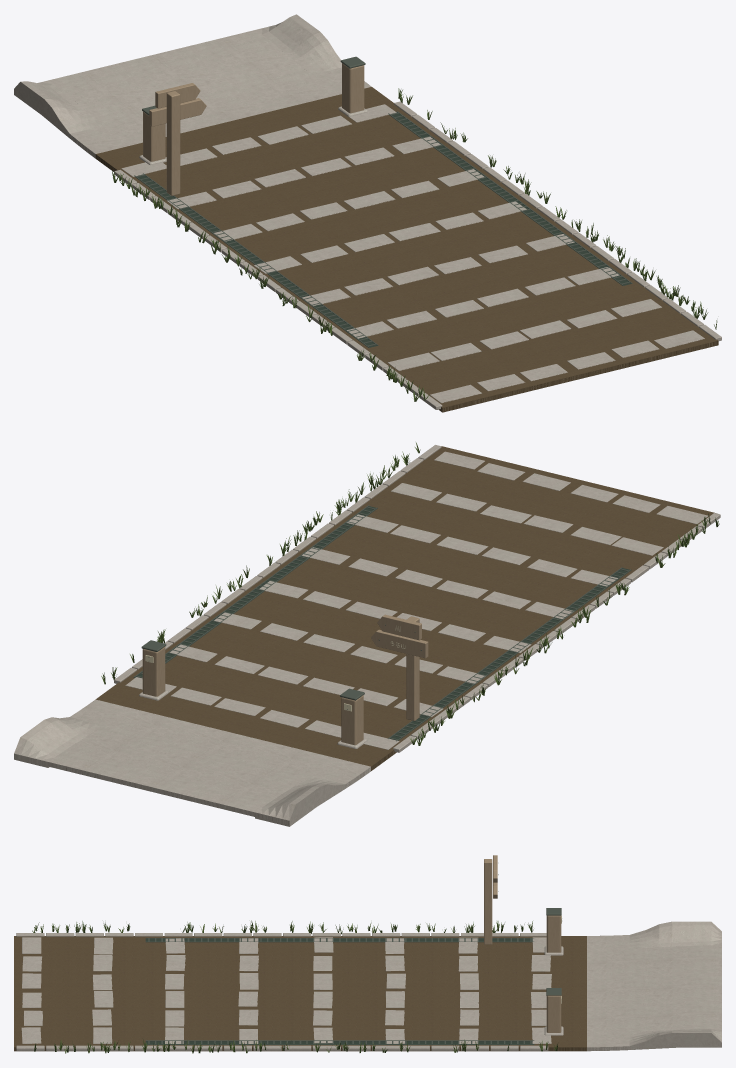
The model's file is connector-v9-lite.glb.
The picture shows the model from 3 angles, top to bottom: view 1: azimuth 30°, elevation 25°; view 2: azimuth 150°, elevation 25°; view 3: azimuth 270°, elevation 25°; orthographic projection. The views are drawn at different scales.
Parts seen in each view (by area): view 1: V9_Connector_static, V9_Connector_grass; view 2: V9_Connector_static, V9_Connector_grass; view 3: V9_Connector_static, V9_Connector_grass.
Boxes of the visible parts, left/top/right/bottom form: V9_Connector_static: left=14, top=14, right=721, bottom=412; V9_Connector_grass: left=112, top=88, right=717, bottom=401; V9_Connector_static: left=14, top=445, right=720, bottom=826; V9_Connector_grass: left=101, top=442, right=719, bottom=745; V9_Connector_static: left=14, top=855, right=721, bottom=1051; V9_Connector_grass: left=32, top=920, right=557, bottom=1053.
Bounding box in the file's own units: 4.52 × 1.46 × 10.75.
7 materials, 4 textured.
